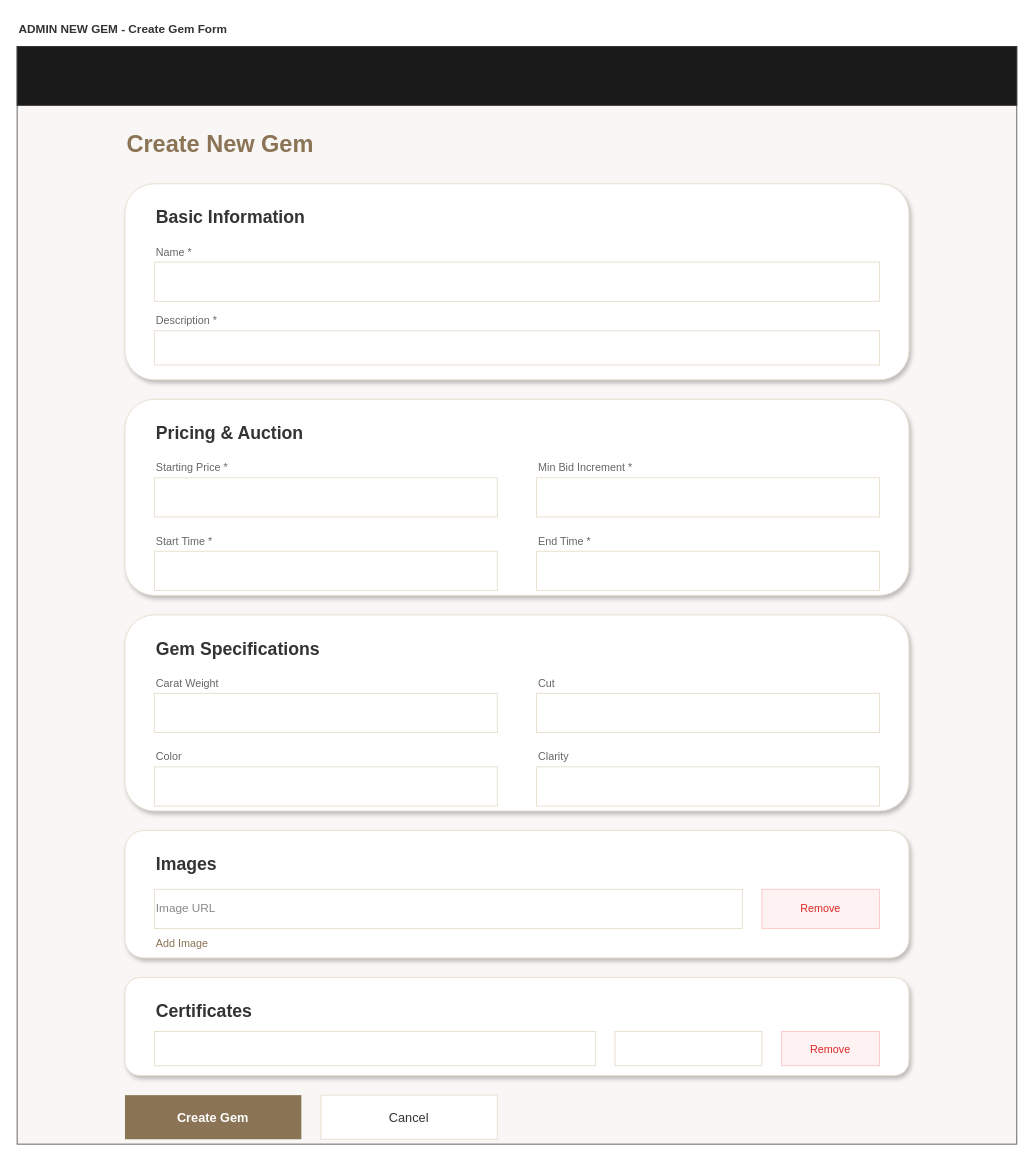
This 1034x1161 diagram has some shape labels left out. Each missing label, with the centre of its shape:
Certificate URL: point (374, 1048)
LUXBID Reserve: point (516, 75)
Type (optional): point (688, 1048)
